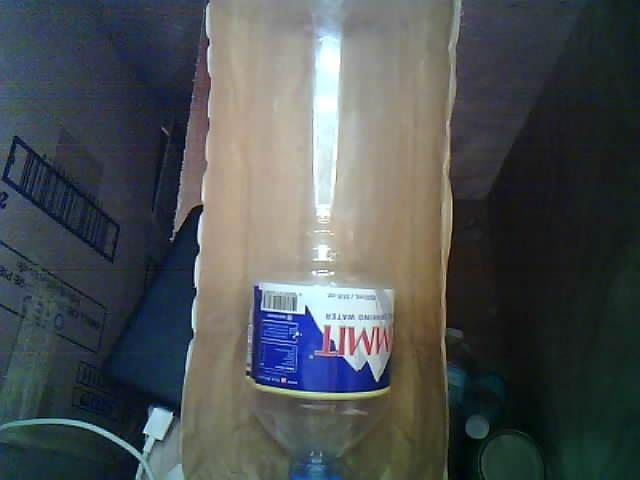large_bottle: (232, 0, 422, 480)
